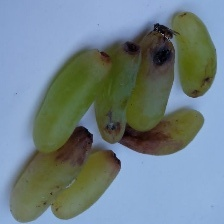grapes: (37, 30, 182, 214)
